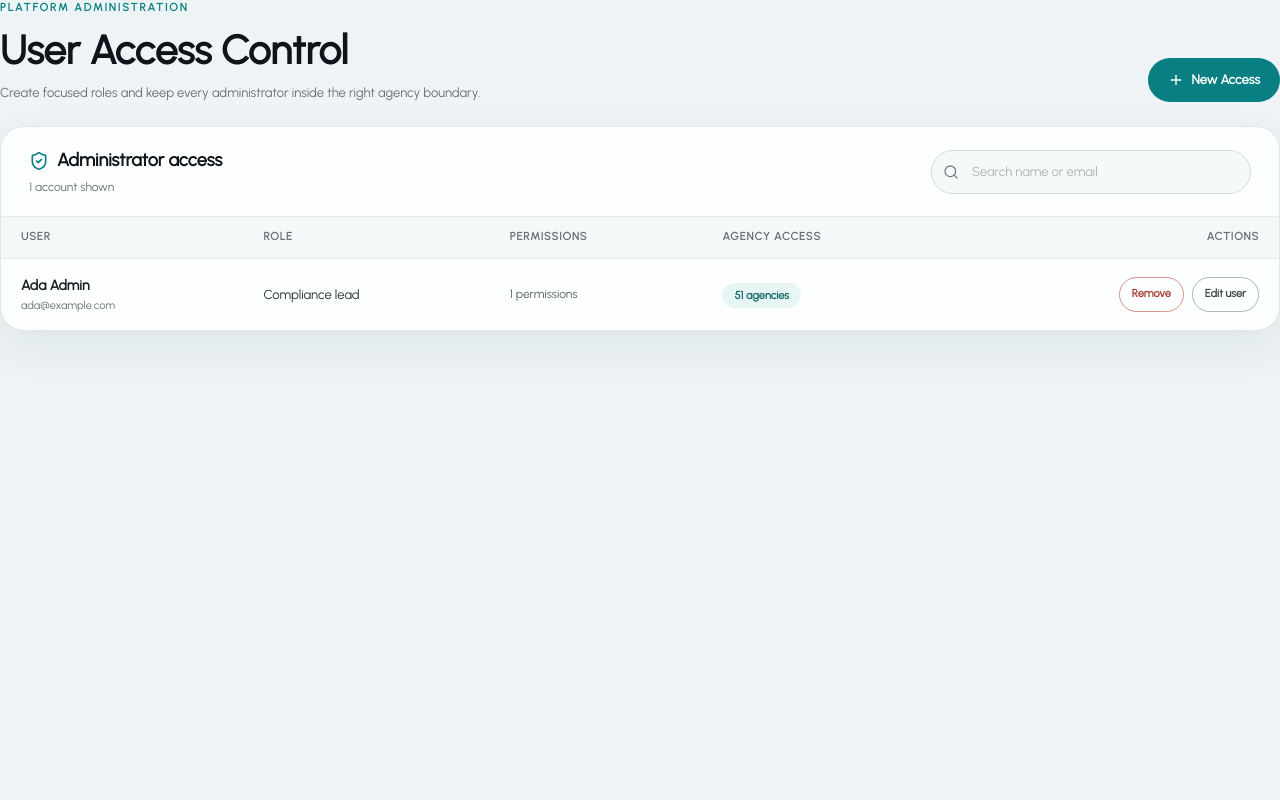
UserAccessControlPage › chunks more than 50 selected IDs and keeps hydration independent from agency search
The image size is (1280, 800).
Expected: the text "Ada Admin" is shown, [21,276,89,294]
Click the button with aria-label "Edit user Ada Admin" at coordinates (1225, 294), box [1192,277,1259,312]
(page scrolled)
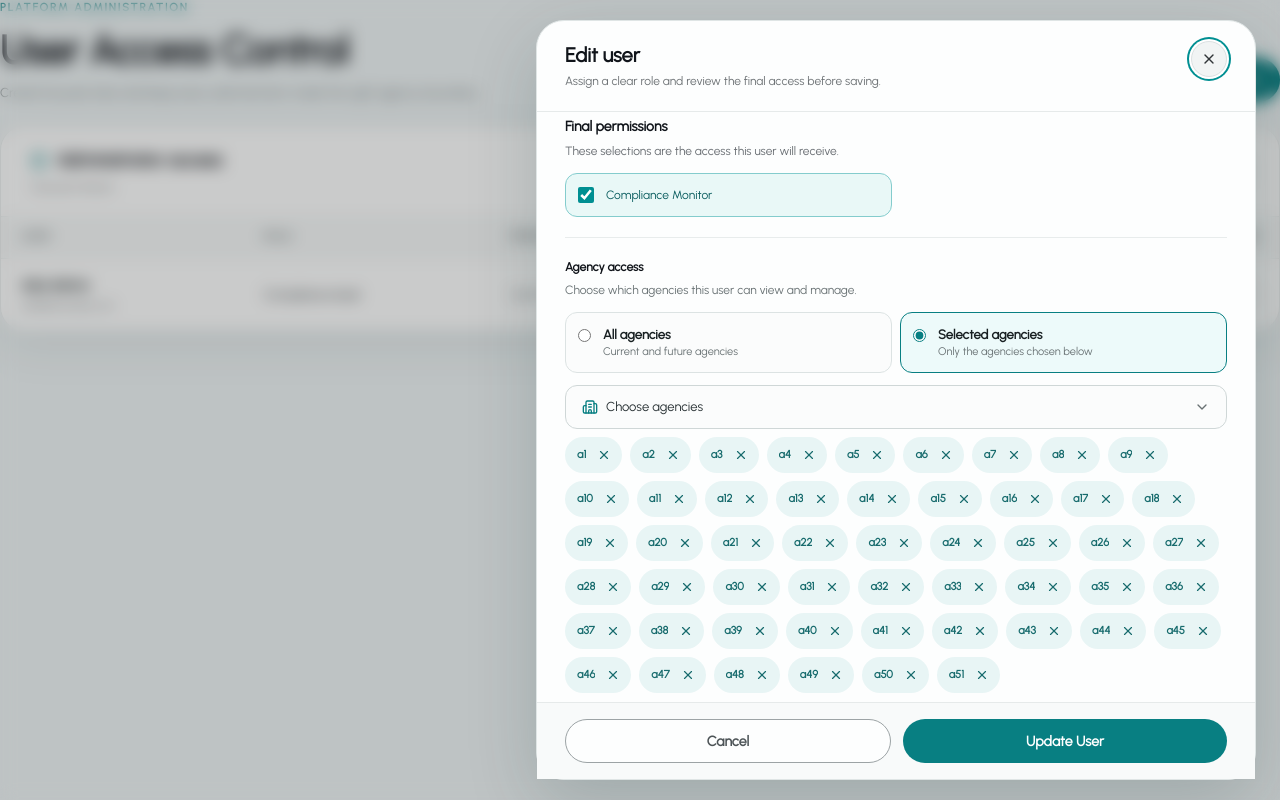
Click the button "Choose agencies" at coordinates (655, 407), box [565,385,1227,429]
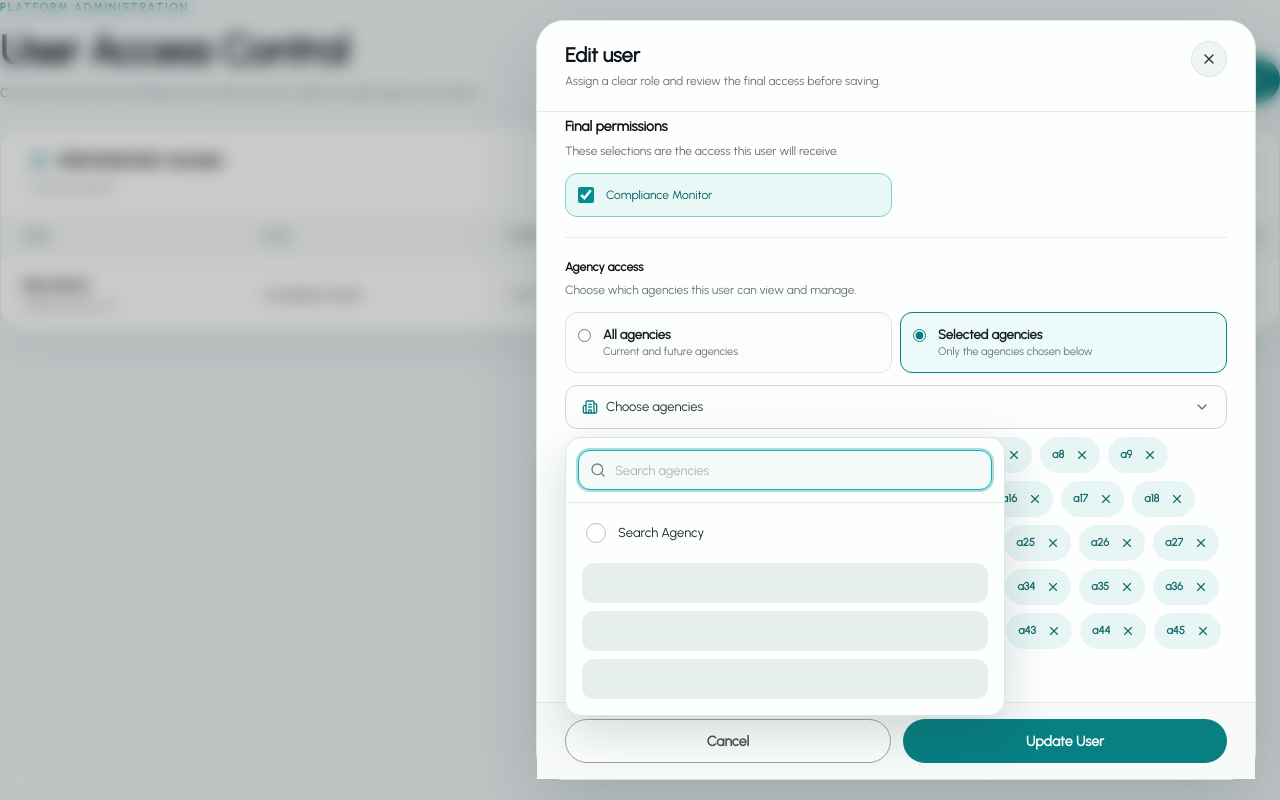
Type "search" into the field labelled "Search agencies" at coordinates (785, 470), box [578,450,992,490]
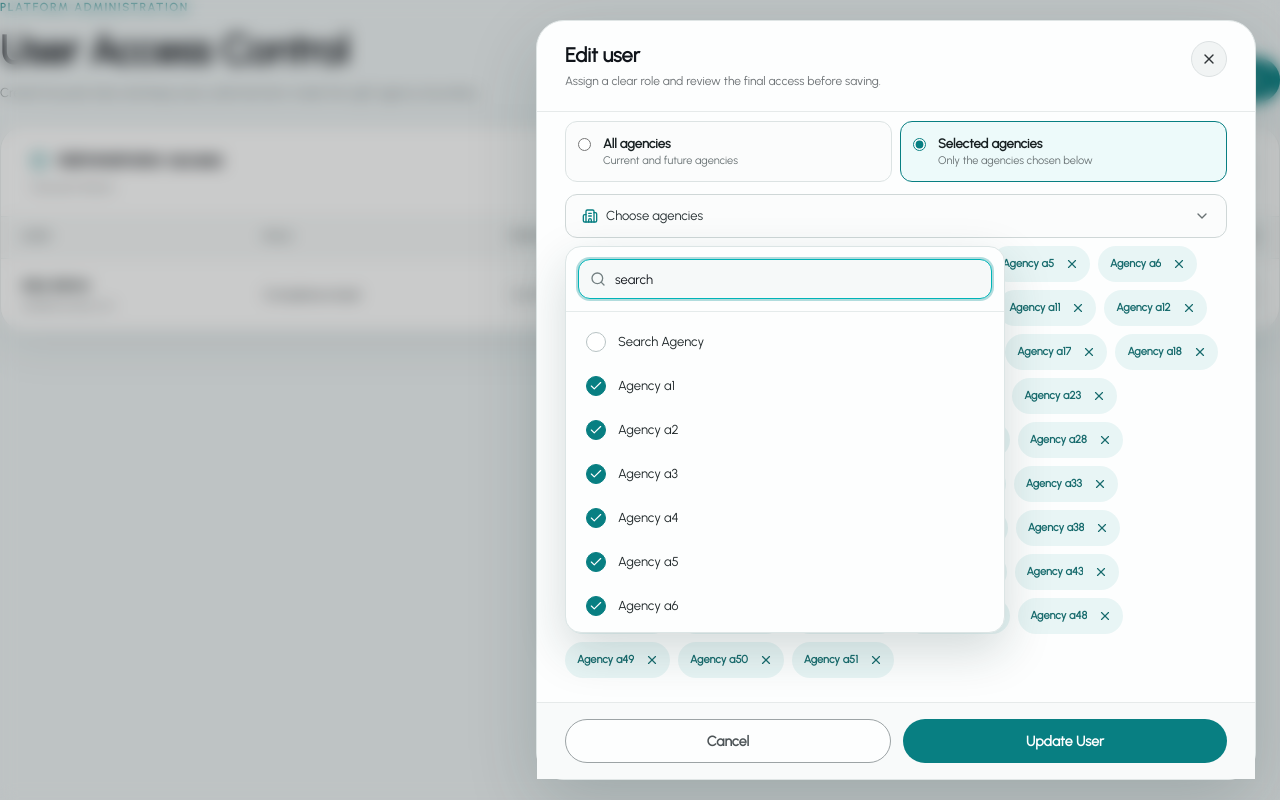
Expected: the text "Agency a51" is shown, [804,652,858,668]
